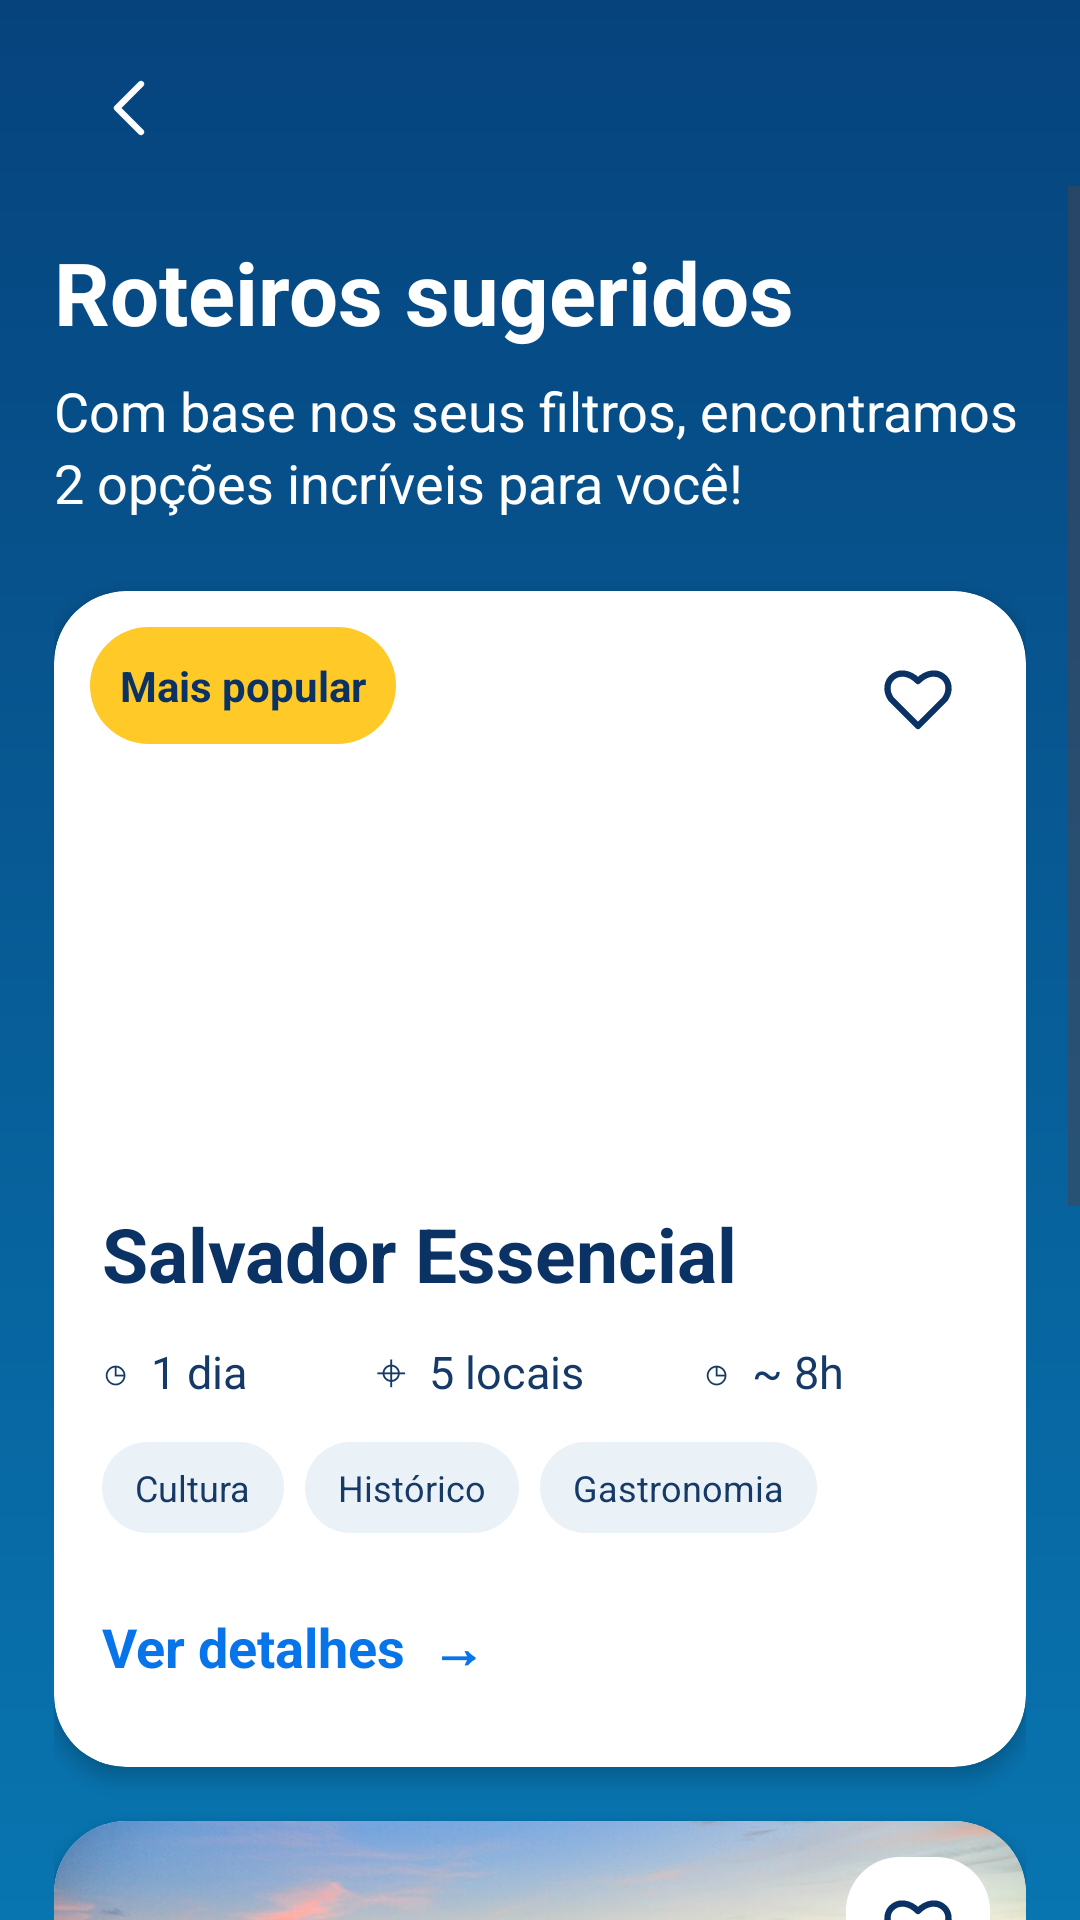

Icon click points for this 1080x1920 phone screenshot, format (x=x, y=y):
Favoritar Salvador Essencial: (x=918, y=700)
Voltar: (x=129, y=108)
